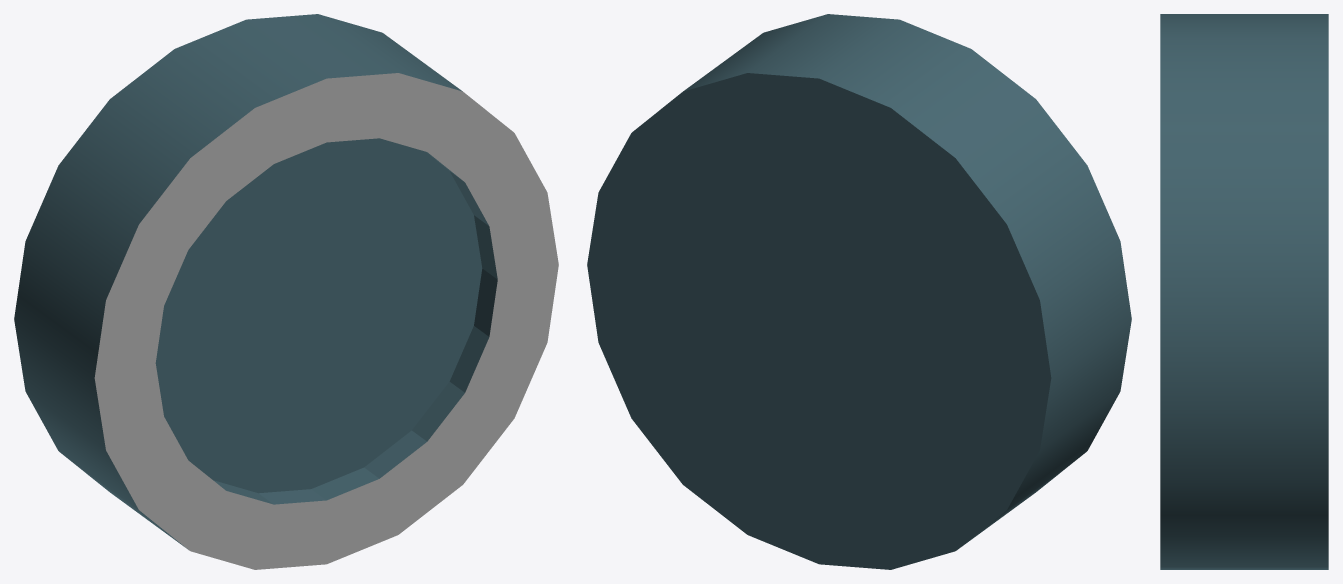
Rendered from Sewer_Pipe.fbx.
3 views of the same model, side by side, from view 1: azimuth 30°, elevation 25°; view 2: azimuth 150°, elevation 25°; view 3: azimuth 270°, elevation 25° (orthographic). The views are drawn at different scales.
Parts seen in each view (by area): view 1: Sewer_Pipe; view 2: Sewer_Pipe; view 3: Sewer_Pipe.
Part boxes in pixels (x1,y1,x2,y2): Sewer_Pipe: (14, 14, 558, 569); Sewer_Pipe: (587, 14, 1131, 569); Sewer_Pipe: (1160, 14, 1328, 569).
Bounding box in the file's own units: 38.08 × 38.08 × 11.44.
